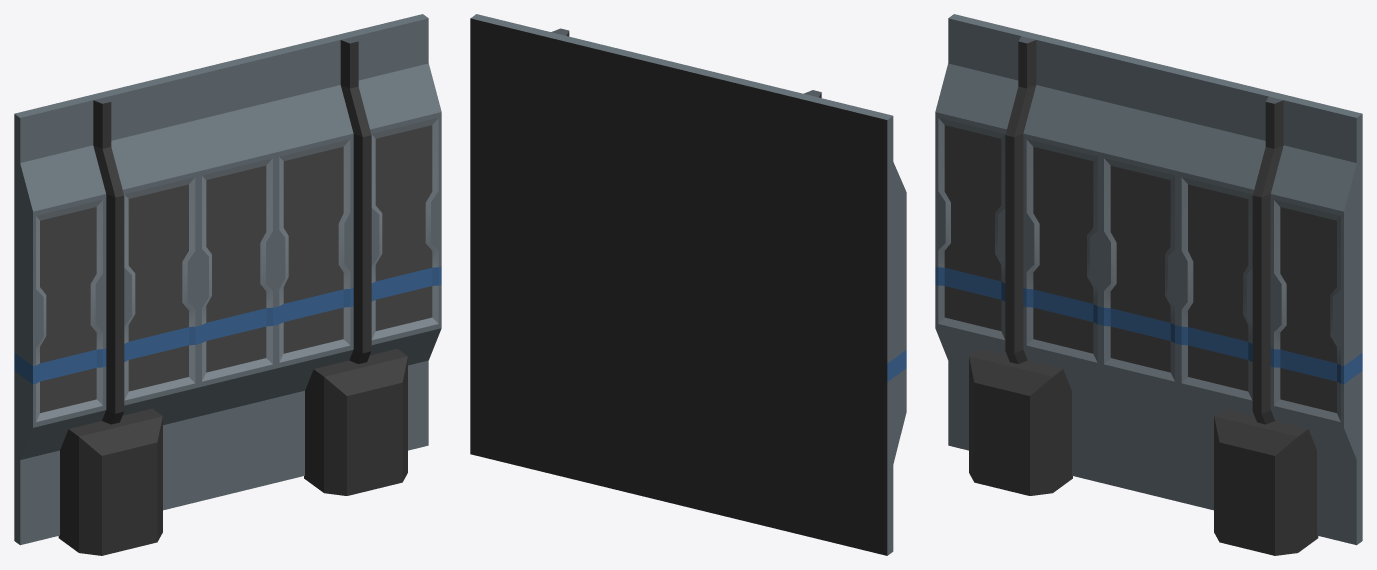
The model's file is SM_Bld_Wall_Exterior_01.fbx.
3 renders of one model, left to right at view 1: azimuth 30°, elevation 25°; view 2: azimuth 150°, elevation 25°; view 3: azimuth 330°, elevation 25°, orthographic. The views are drawn at different scales.
Visible parts, largest first — view 1: SM_Bld_Wall_Exterior_01; view 2: SM_Bld_Wall_Exterior_01; view 3: SM_Bld_Wall_Exterior_01.
Boxes of the visible parts, x1,y1,x2,y2 form: SM_Bld_Wall_Exterior_01: [14, 14, 441, 555]; SM_Bld_Wall_Exterior_01: [470, 14, 906, 555]; SM_Bld_Wall_Exterior_01: [935, 14, 1362, 555].
Size of the model in its own units: 500 by 504 by 71.31.
1 material, 1 textured.
